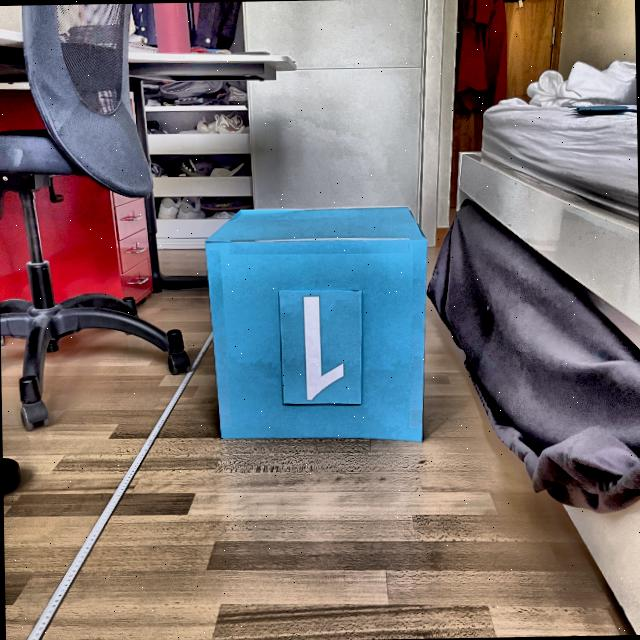blue box: (204, 202, 430, 447)
one: (299, 293, 344, 402)
